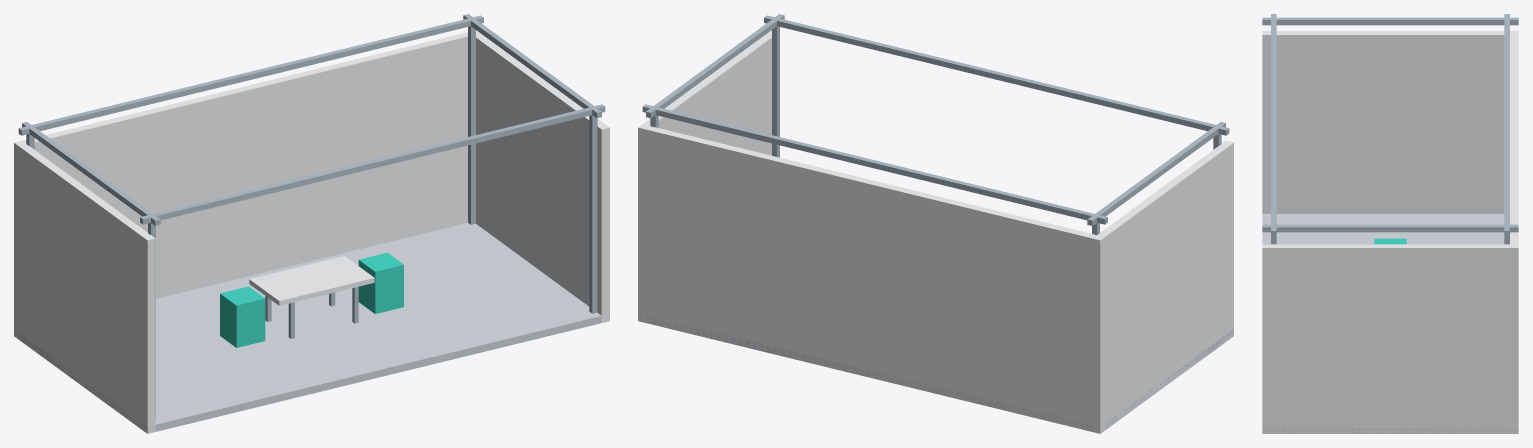
3 renders of one model, left to right at view 1: azimuth 30°, elevation 25°; view 2: azimuth 150°, elevation 25°; view 3: azimuth 270°, elevation 25°, orthographic. The views are drawn at different scales.
Parts seen in each view (by area): view 1: Exhibition Booth Concept; view 2: Exhibition Booth Concept; view 3: Exhibition Booth Concept.
Part boxes in pixels (<box>): Exhibition Booth Concept: <box>14,14,609,433</box>; Exhibition Booth Concept: <box>638,14,1233,433</box>; Exhibition Booth Concept: <box>1262,14,1518,433</box>.
Bounding box in the file's own units: 8 × 3.49 × 4.
